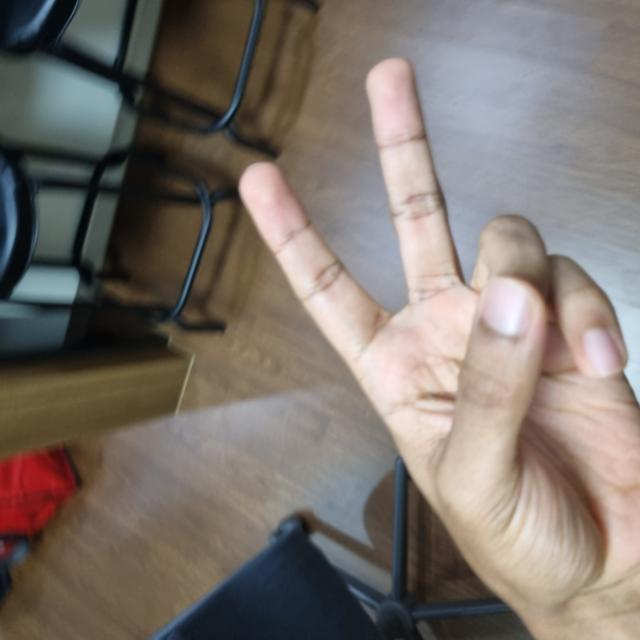Scissors: (8, 243, 575, 639)
